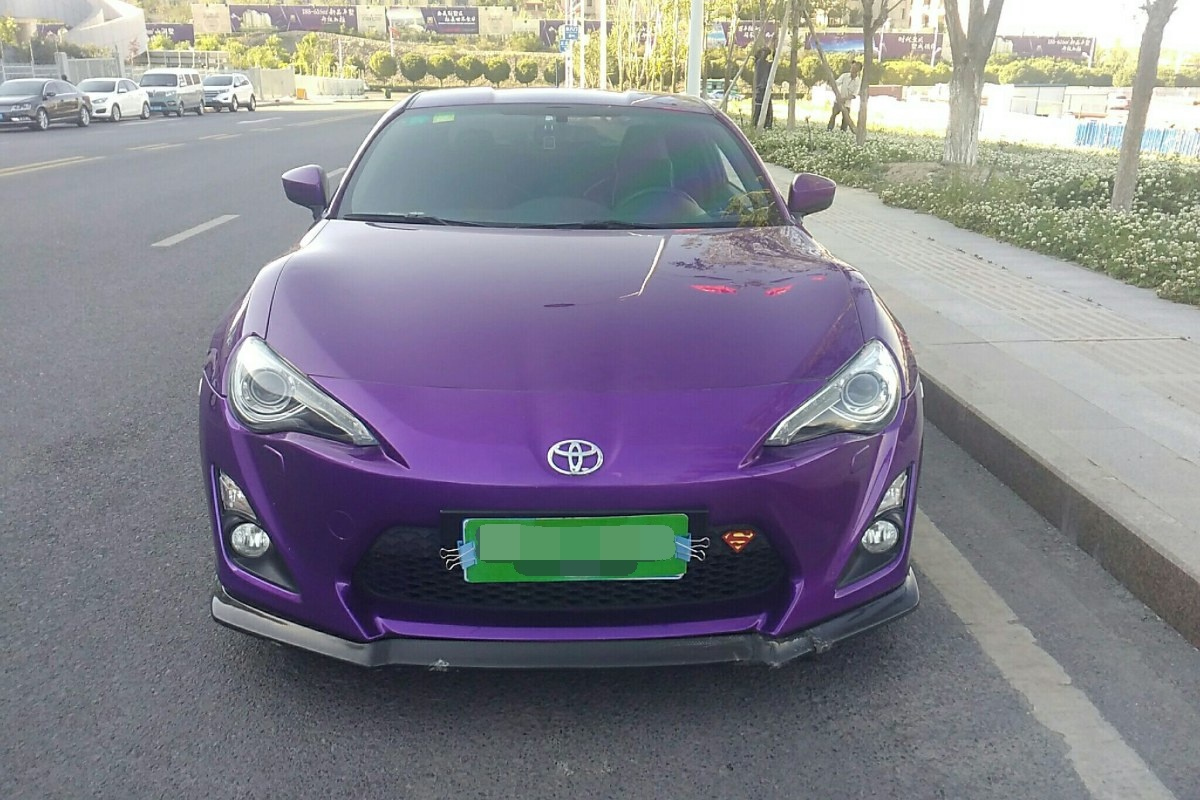family sedan: (216, 80, 949, 685)
